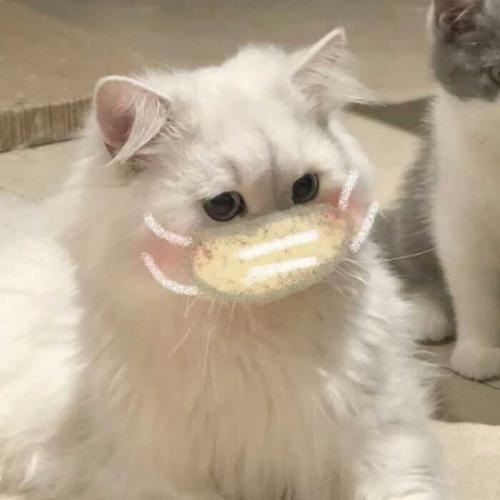cat: (75, 41, 385, 323)
